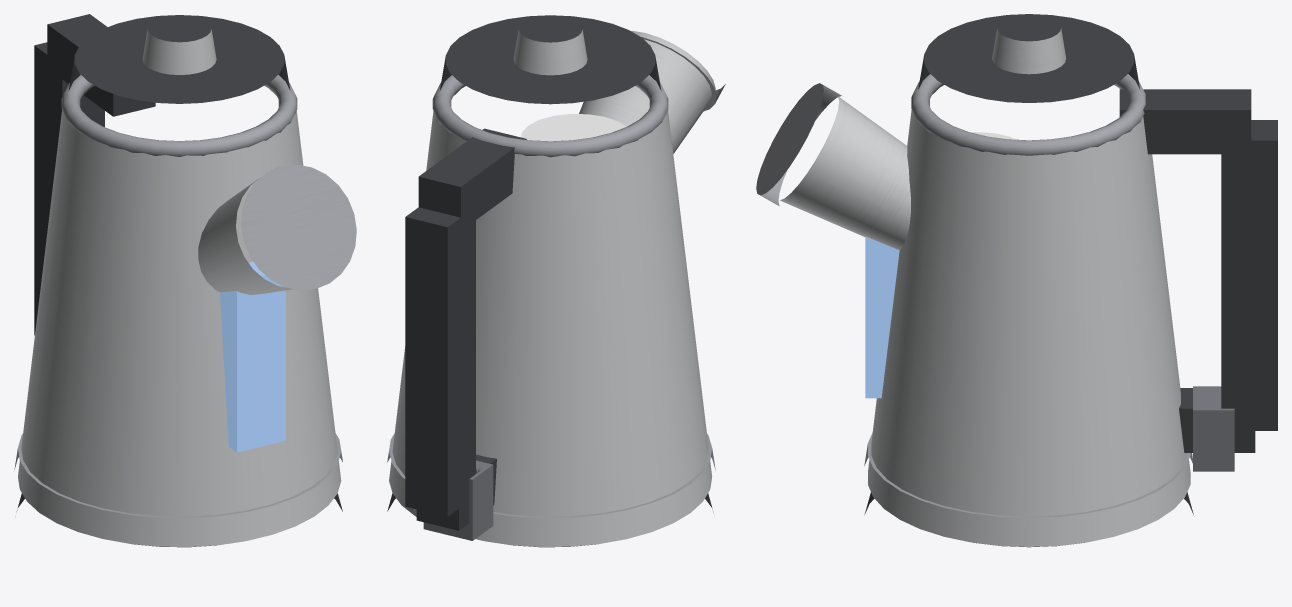
File: electric-kettle.glb
3 views of the same model, side by side, from view 1: azimuth 30°, elevation 25°; view 2: azimuth 150°, elevation 25°; view 3: azimuth 270°, elevation 25° (orthographic).
Visible parts, largest first — view 1: body, lid, spout-lip, window, handle-grip, lid-seam, spout, handle-arm, lid-knob, body-ring; view 2: body, handle-grip, lid, handle-arm, spout, lid-seam, lid-knob, filter, switch, handle-foot, body-ring; view 3: body, handle-grip, lid, spout, handle-arm, lid-seam, window, spout-lip, switch, lid-knob, handle-foot, body-ring.
Boxes of the visible parts, <box> form: body: <box>18,110,341,546</box>; lid: <box>68,15,290,103</box>; spout-lip: <box>241,164,356,290</box>; window: <box>220,261,285,452</box>; handle-grip: <box>34,42,104,335</box>; lid-seam: <box>61,74,297,156</box>; spout: <box>198,177,293,294</box>; handle-arm: <box>47,14,155,116</box>; lid-knob: <box>142,29,216,74</box>; body-ring: <box>14,433,342,517</box>; body: <box>389,110,712,546</box>; handle-grip: <box>405,207,475,516</box>; lid: <box>440,15,661,104</box>; handle-arm: <box>418,128,526,230</box>; spout: <box>579,30,715,153</box>; lid-seam: <box>432,75,668,157</box>; lid-knob: <box>513,29,587,75</box>; filter: <box>521,114,626,141</box>; switch: <box>423,460,493,540</box>; handle-foot: <box>416,454,496,530</box>; body-ring: <box>387,433,715,517</box>; body: <box>868,110,1190,546</box>; handle-grip: <box>1221,120,1277,430</box>; lid: <box>918,14,1139,102</box>; spout: <box>780,96,910,250</box>; handle-arm: <box>1119,89,1251,154</box>; lid-seam: <box>911,74,1145,155</box>; window: <box>865,236,899,398</box>; spout-lip: <box>756,83,841,206</box>; switch: <box>1193,386,1234,471</box>; lid-knob: <box>992,28,1066,74</box>; handle-foot: <box>1179,388,1255,452</box>; body-ring: <box>864,433,1192,517</box>.
Size of the model in its own units: 0.176 by 0.29 by 0.277.
Materials: 8 (2 with a texture image).
